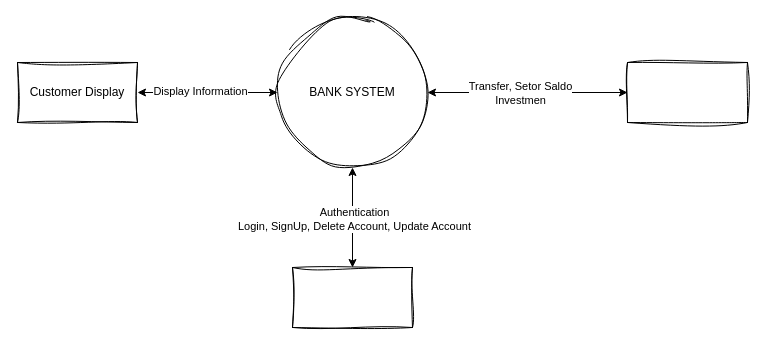
Some shapes in this 765 by 345 pixel diagram are drawn without their labels. Here are the shapes that lost their labels. From the top down, the centre of each, then its label:
At (687,92): "Money Management".
At (352,297): "Bank Account".
